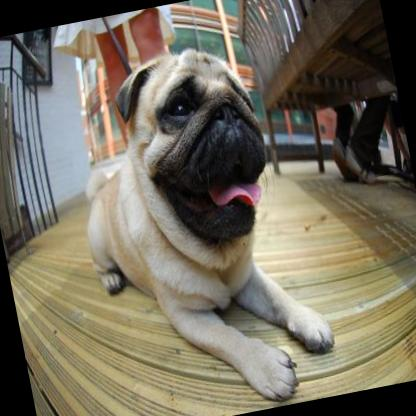pug: (53, 30, 345, 416)
